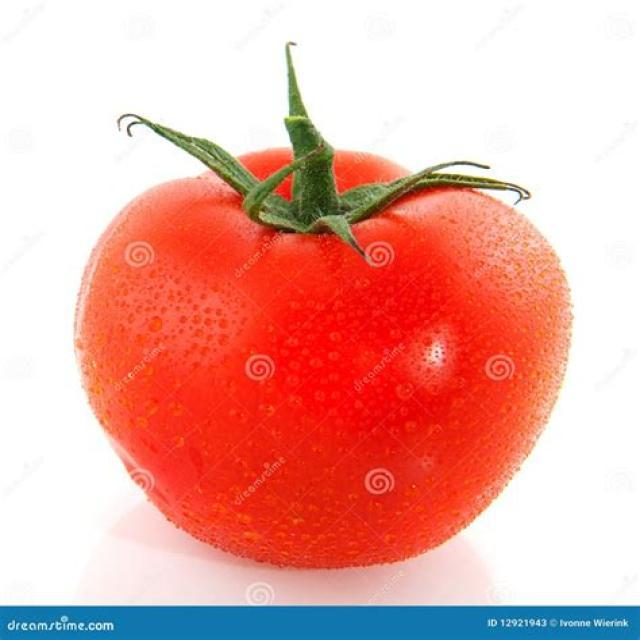Tomato: (72, 48, 575, 574)
